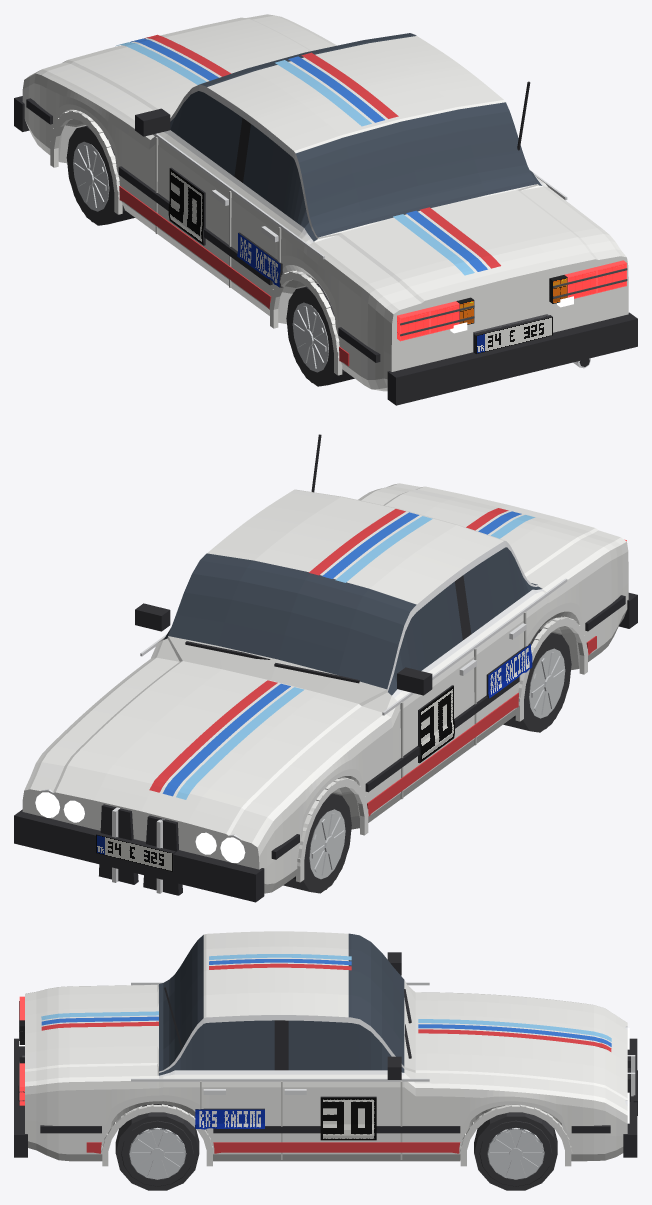
The picture shows the model from 3 angles, top to bottom: view 1: azimuth 30°, elevation 25°; view 2: azimuth 150°, elevation 25°; view 3: azimuth 270°, elevation 25°; orthographic projection. The views are drawn at different scales.
Parts seen in each view (by area): view 1: body.018, livery.017, wheel_RL.018, wheel_FL.018; view 2: body.018, livery.017, wheel_RL.018, wheel_FL.018; view 3: body.018, livery.017, wheel_RR.018, wheel_FR.018.
Boxes of the visible parts, x1,y1,x2,y2 form: body.018: (14, 14, 637, 405); livery.017: (115, 34, 500, 366); wheel_RL.018: (286, 283, 354, 386); wheel_FL.018: (66, 125, 134, 225); body.018: (14, 434, 637, 902); livery.017: (149, 508, 596, 816); wheel_RL.018: (503, 629, 571, 732); wheel_FL.018: (283, 793, 351, 893); body.018: (14, 931, 637, 1166); livery.017: (41, 954, 611, 1153); wheel_RR.018: (115, 1105, 199, 1190); wheel_FR.018: (474, 1112, 557, 1190).
Bounding box in the file's own units: 1.95 × 1.57 × 4.48.
18 materials, 6 textured.
